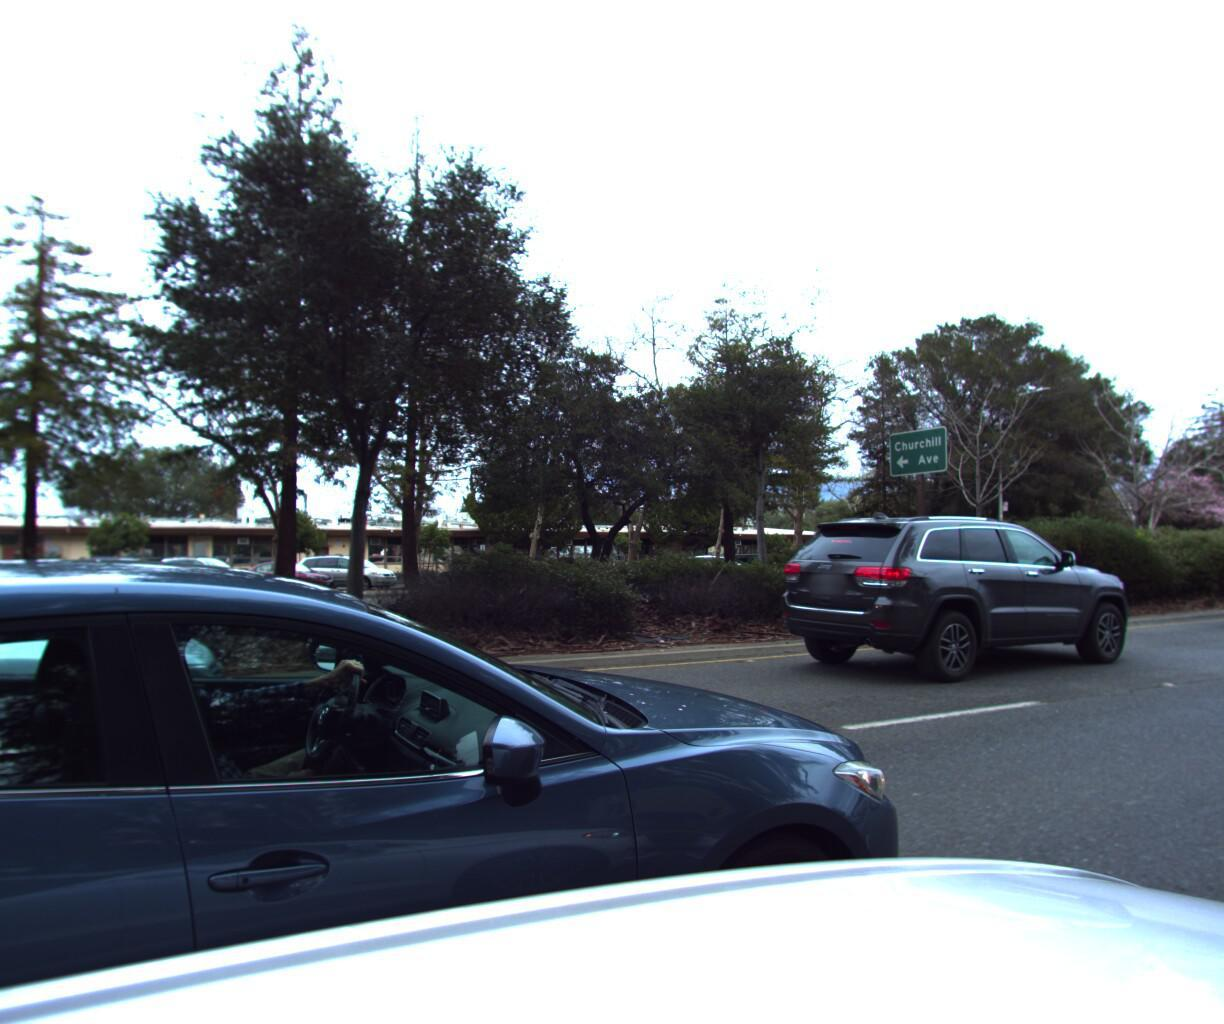car: (0, 541, 966, 1024), (0, 530, 216, 995), (754, 493, 1157, 689), (1222, 508, 1224, 628)
